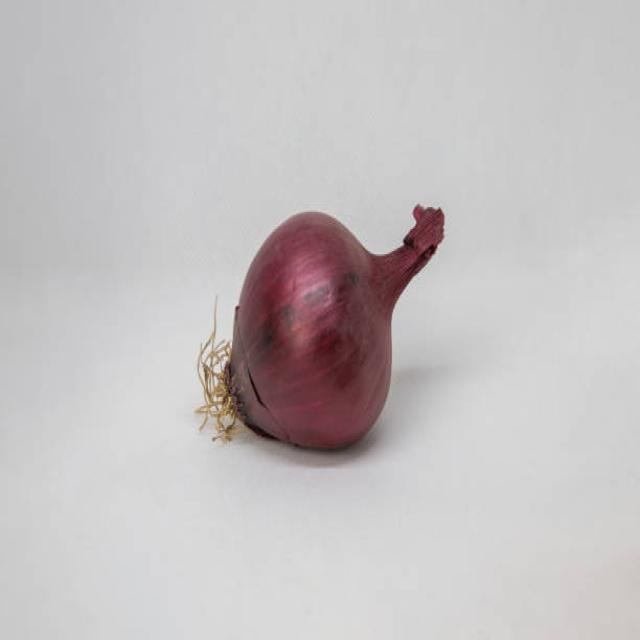onion: (216, 186, 396, 466)
